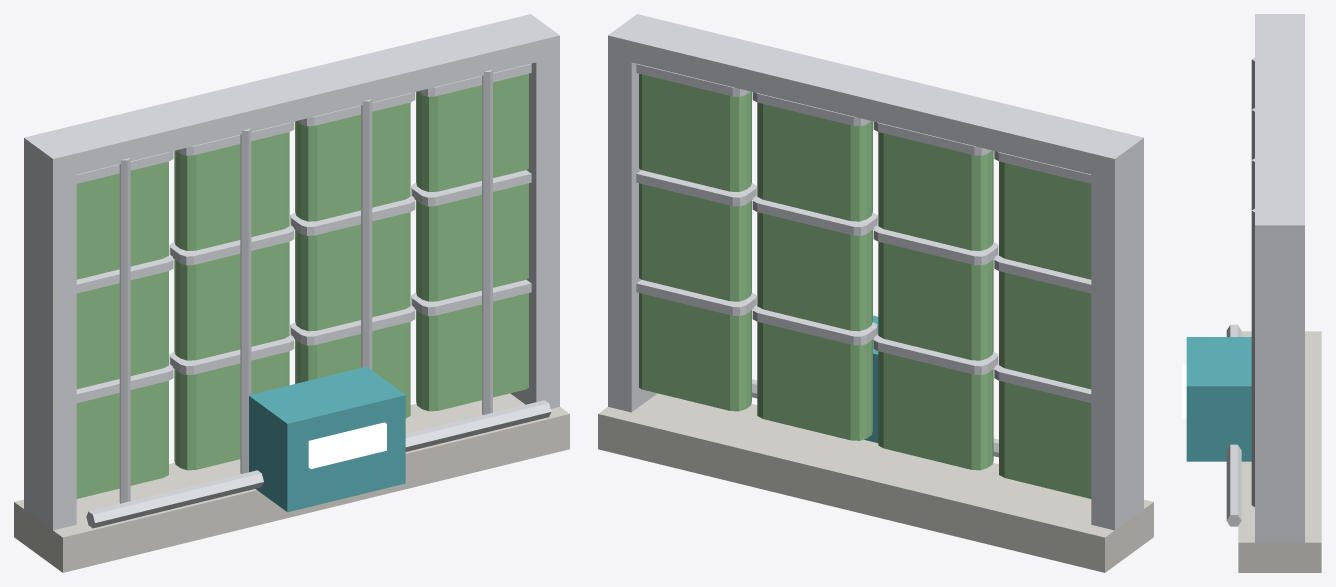
The model's file is arcology-towers-and-skyways-algae-panel-wall-8660932c__23279.glb.
The picture shows the model from 3 angles, left to right: view 1: azimuth 30°, elevation 25°; view 2: azimuth 150°, elevation 25°; view 3: azimuth 270°, elevation 25°; orthographic projection. The views are drawn at different scales.
Parts seen in each view (by area): view 1: algae-panel-wall; view 2: algae-panel-wall; view 3: algae-panel-wall.
Part boxes in pixels (x1,y1,x2,y2): algae-panel-wall: (14,14,569,572); algae-panel-wall: (598,14,1153,572); algae-panel-wall: (1182,14,1321,572).
Bounding box in the file's own units: 6 × 4.6 × 1.67.
